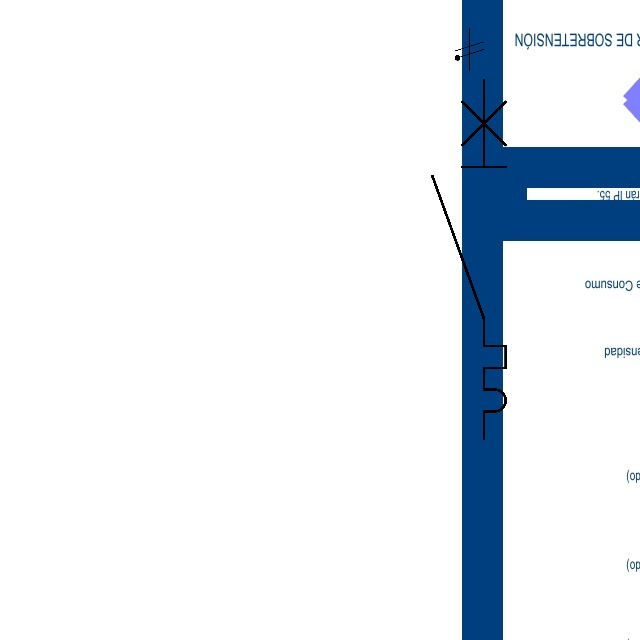interruptor_termomagnetico: (423, 70, 515, 448)
